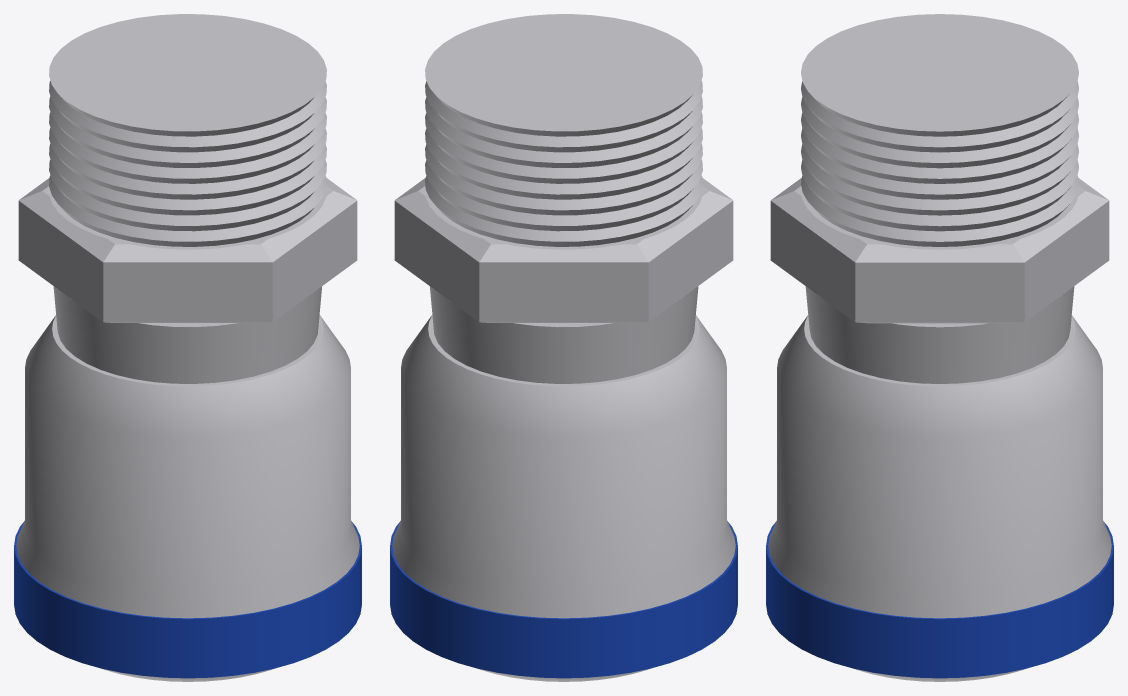
Rendered from adapter_rss1021.glb.
3 renders of one model, left to right at view 1: azimuth 30°, elevation 25°; view 2: azimuth 150°, elevation 25°; view 3: azimuth 270°, elevation 25°, orthographic.
Parts seen in each view (by area): view 1: раструб, переходник НР, переходник шестигранник, кольцо пресс, шейка; view 2: раструб, переходник НР, переходник шестигранник, кольцо пресс, шейка; view 3: раструб, переходник НР, переходник шестигранник, кольцо пресс, шейка.
Part boxes in pixels (box(x1,y1,x2,y2)): раструб: box(16, 315, 359, 681); переходник НР: box(49, 14, 326, 249); переходник шестигранник: box(18, 178, 357, 322); кольцо пресс: box(14, 522, 361, 678); шейка: box(53, 286, 321, 383); раструб: box(392, 315, 735, 681); переходник НР: box(425, 14, 702, 249); переходник шестигранник: box(394, 178, 733, 322); кольцо пресс: box(390, 522, 737, 678); шейка: box(430, 286, 698, 383); раструб: box(768, 315, 1111, 681); переходник НР: box(801, 14, 1078, 249); переходник шестигранник: box(770, 177, 1109, 323); кольцо пресс: box(766, 522, 1113, 678); шейка: box(805, 286, 1074, 383).
Size of the model in its own units: 0.032 by 0.056 by 0.032.
